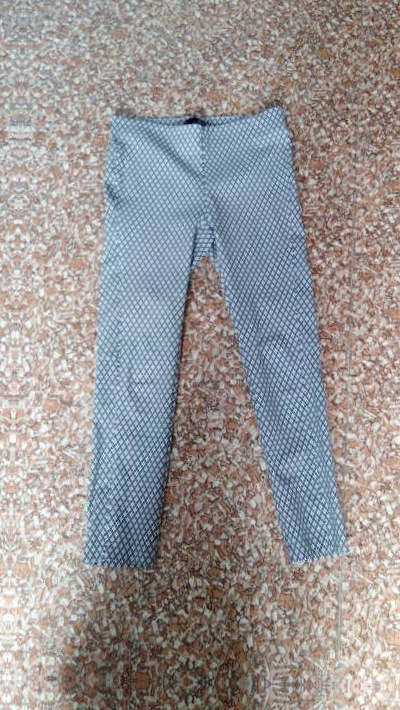Pants: (48, 62, 367, 586)
